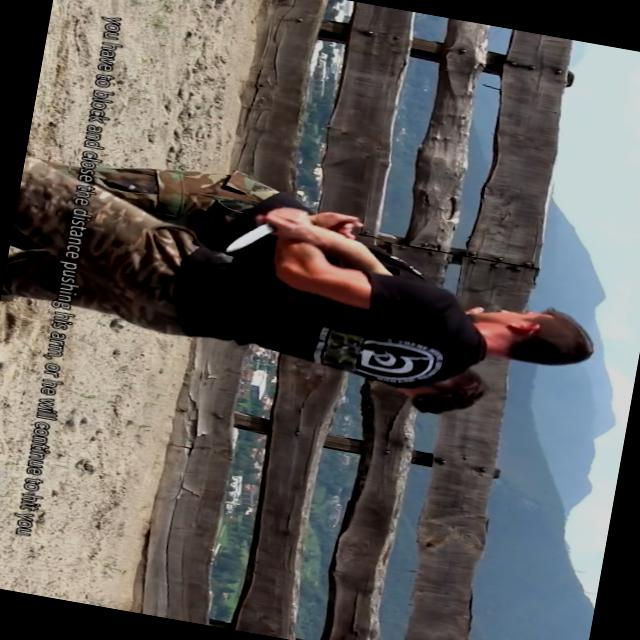knife: (220, 194, 318, 268)
